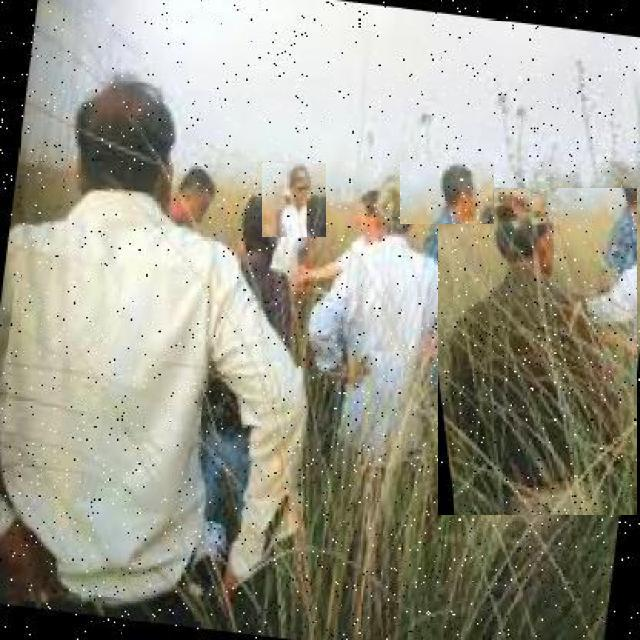poacher: (4, 79, 300, 498), (438, 188, 637, 515), (308, 175, 454, 440), (400, 162, 494, 224), (262, 163, 326, 237)
